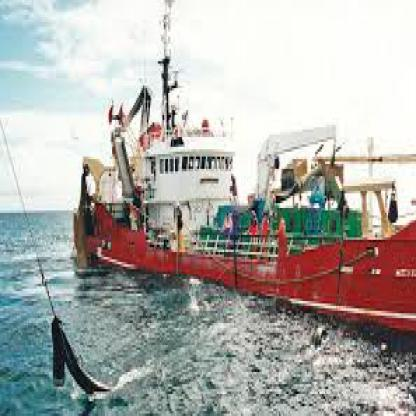fish-b: (65, 2, 414, 350)
